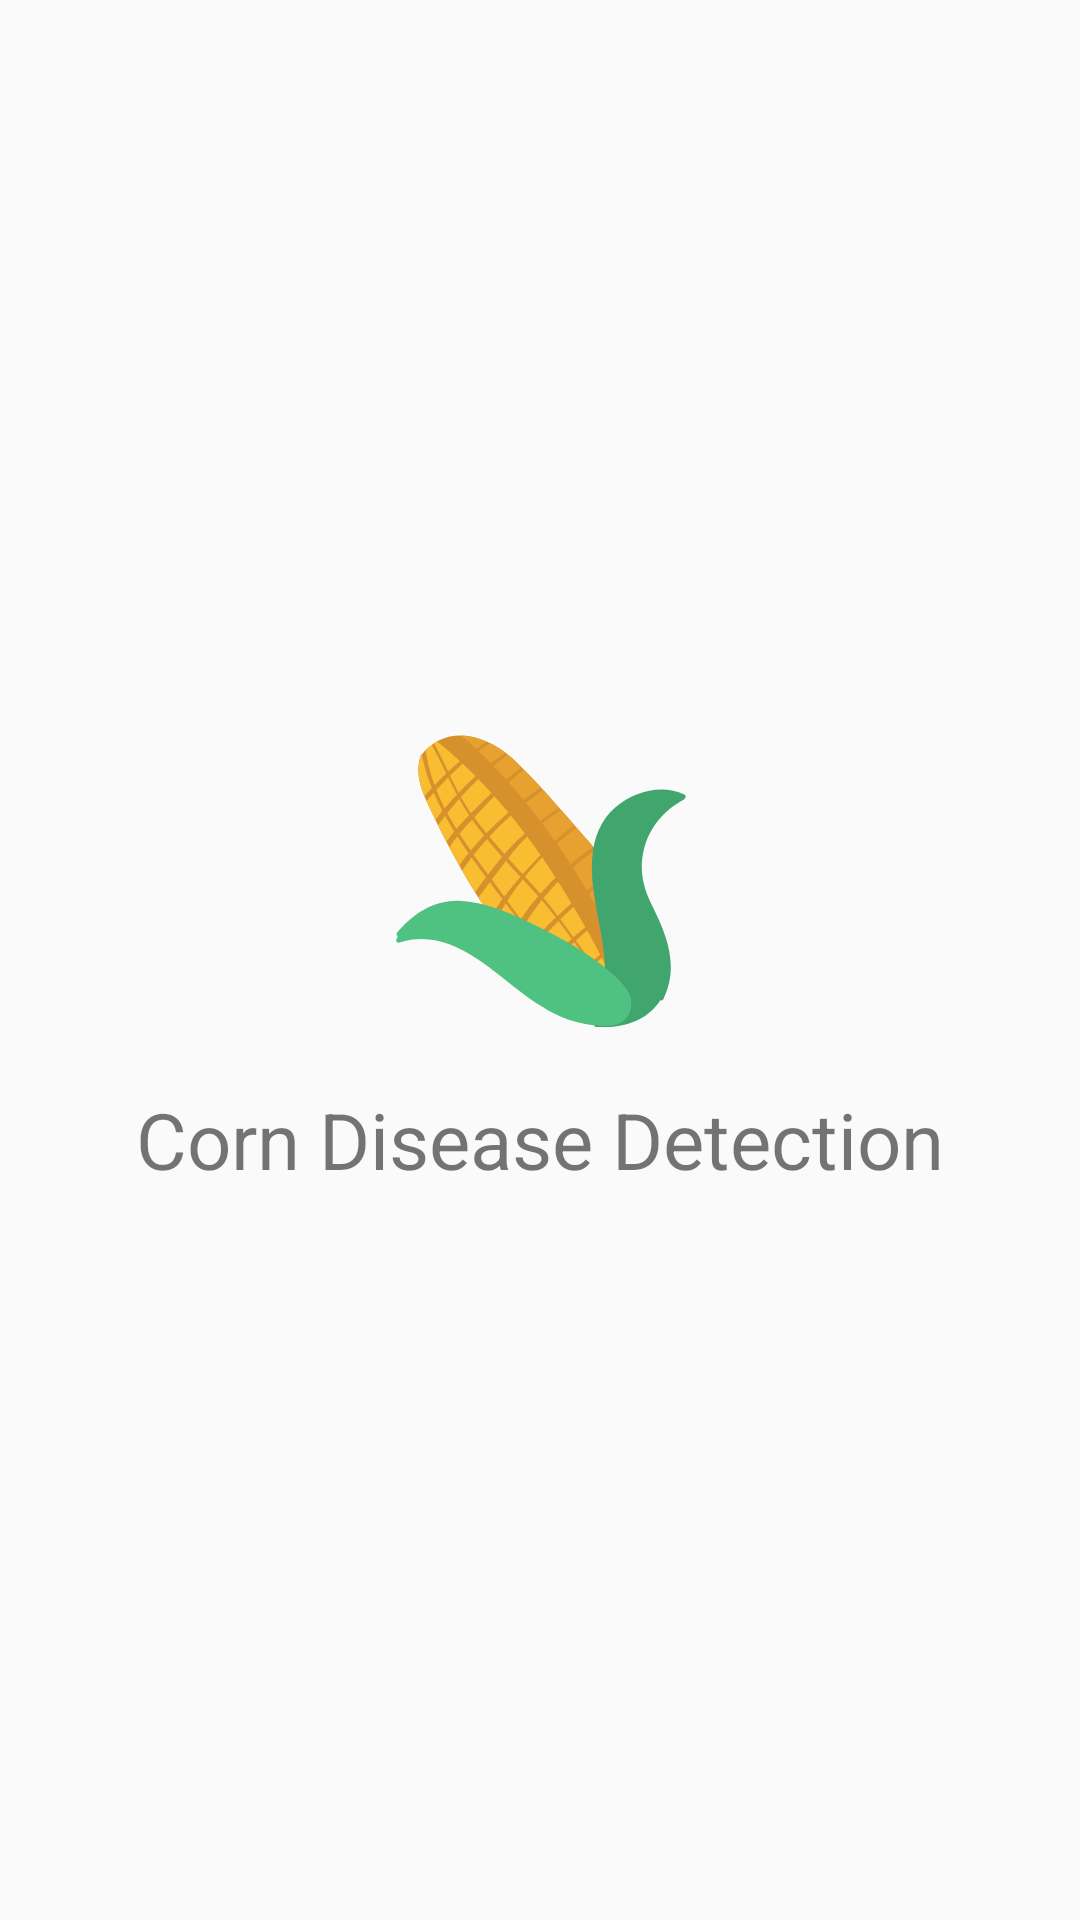

Icon click points for this 1080*1920 phone screenshot, format (x,y):
corn lef scanner: (541,881)
